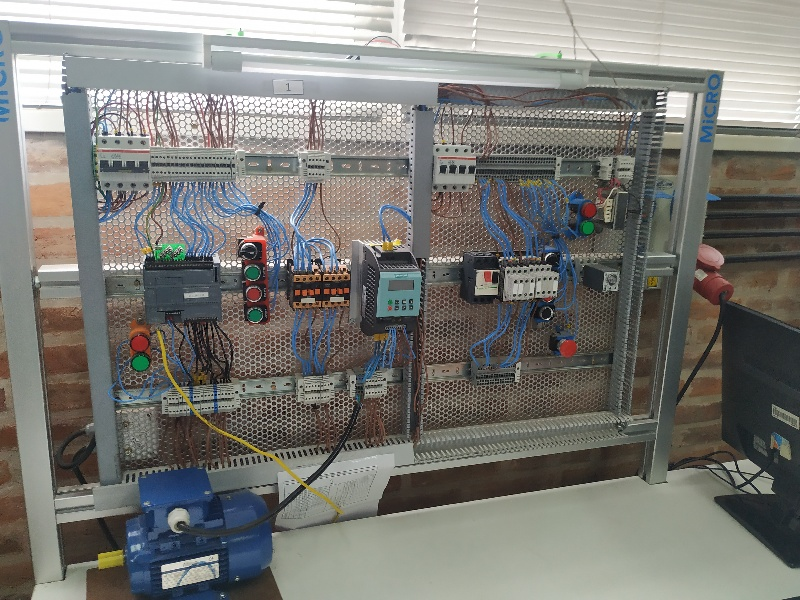Tablero 1: (77, 76, 663, 447)
